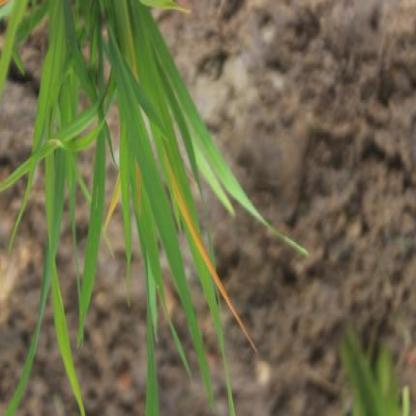Tungro: (119, 70, 263, 351)
